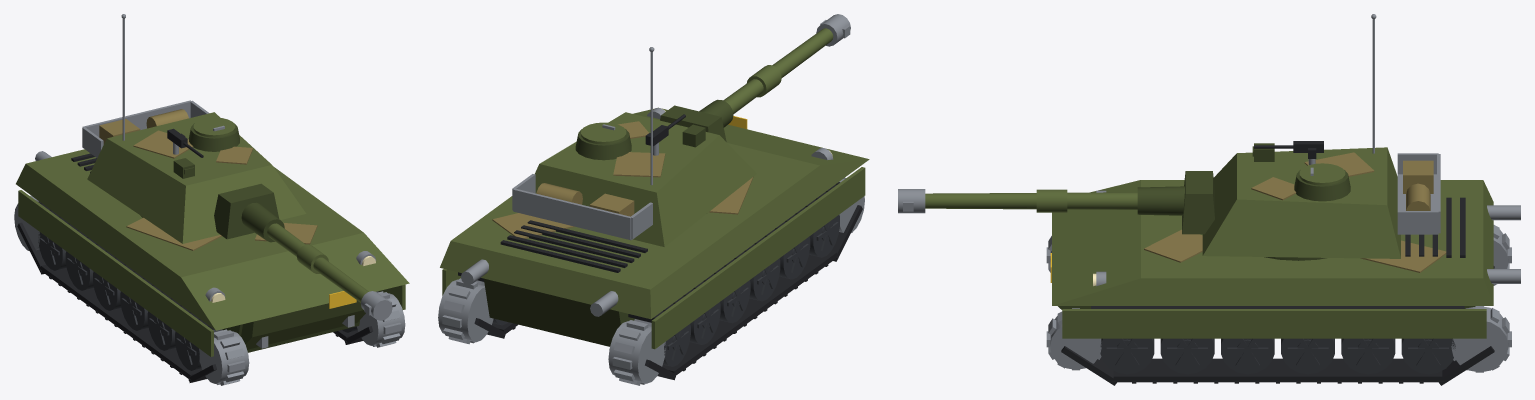
The model's file is Tank.obj.
3 renders of one model, left to right at view 1: azimuth 30°, elevation 25°; view 2: azimuth 150°, elevation 25°; view 3: azimuth 270°, elevation 25°, orthographic. The views are drawn at different scales.
Parts seen in each view (by area): view 1: UpperHull, TurretBody, Skirt_R, Track_R, Glacis, Mantlet, Idler_R, BarrelTube, Basket, Idler_L, CamoPatches, TurretCamo (+19 smaller); view 2: UpperHull, TurretBody, Skirt_R, LowerHull, Track_R, Basket, EngineGrill, Sprocket_R, Sprocket_L, BarrelTube, CamoPatches, TurretCamo (+19 smaller); view 3: UpperHull, TurretBody, Skirt_L, Track_L, BarrelTube, CamoPatches, Basket, Sprocket_L, Mantlet, Wheel_L1, Wheel_L4, Wheel_L2 (+15 smaller).
Boxes of the visible parts, x1,y1,x2,y2 form: UpperHull: [16, 149, 409, 330]; TurretBody: [87, 112, 306, 243]; Skirt_R: [18, 190, 213, 356]; Track_R: [17, 201, 216, 382]; Glacis: [241, 300, 365, 349]; Mantlet: [214, 183, 279, 239]; Idler_R: [199, 329, 249, 385]; BarrelTube: [267, 223, 368, 302]; Basket: [82, 100, 209, 157]; Idler_L: [357, 291, 405, 347]; CamoPatches: [126, 217, 317, 250]; TurretCamo: [133, 130, 252, 164]; UpperHull: [440, 107, 869, 319]; TurretBody: [535, 112, 756, 246]; Skirt_R: [651, 167, 865, 349]; LowerHull: [484, 278, 639, 346]; Track_R: [628, 182, 862, 380]; Basket: [512, 174, 652, 240]; EngineGrill: [500, 220, 647, 272]; Sprocket_R: [608, 319, 665, 385]; Sprocket_L: [438, 278, 493, 344]; BarrelTube: [723, 28, 833, 114]; CamoPatches: [492, 176, 753, 238]; TurretCamo: [613, 121, 665, 177]; UpperHull: [1052, 180, 1493, 305]; TurretBody: [1202, 147, 1400, 258]; Skirt_L: [1062, 309, 1486, 338]; Track_L: [1061, 306, 1494, 385]; BarrelTube: [925, 192, 1137, 209]; CamoPatches: [1144, 229, 1446, 272]; Basket: [1397, 153, 1440, 234]; Sprocket_L: [1451, 306, 1511, 372]; Mantlet: [1182, 171, 1214, 234]; Wheel_L1: [1341, 338, 1395, 374]; Wheel_L4: [1160, 338, 1214, 374]; Wheel_L2: [1281, 338, 1334, 374].
Bounding box in the file's own units: 3.62 × 4.8 × 9.1.
